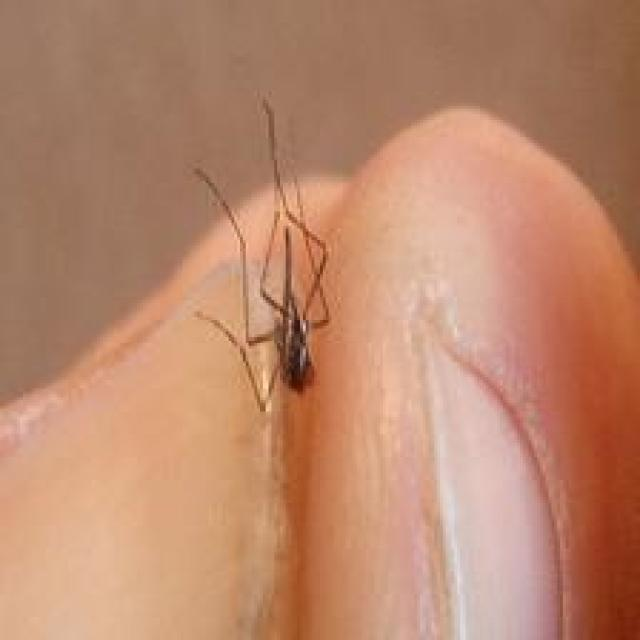Aedes albopictus: (190, 93, 333, 413)
